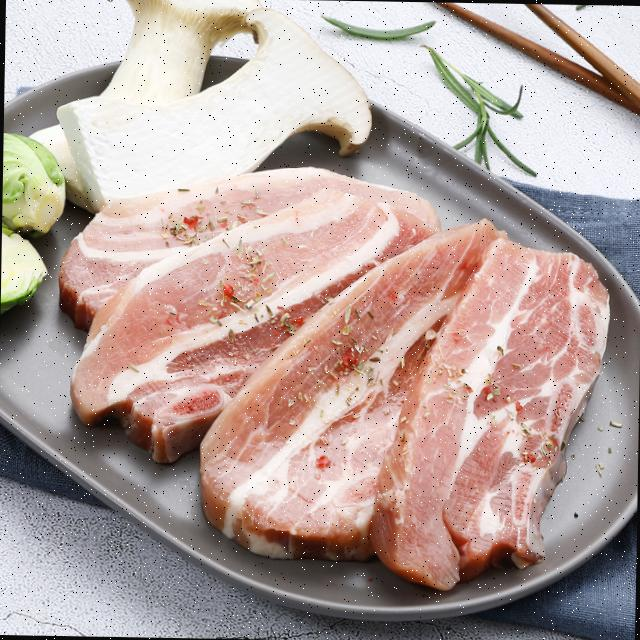meat: (52, 160, 618, 594), (368, 236, 614, 594)
